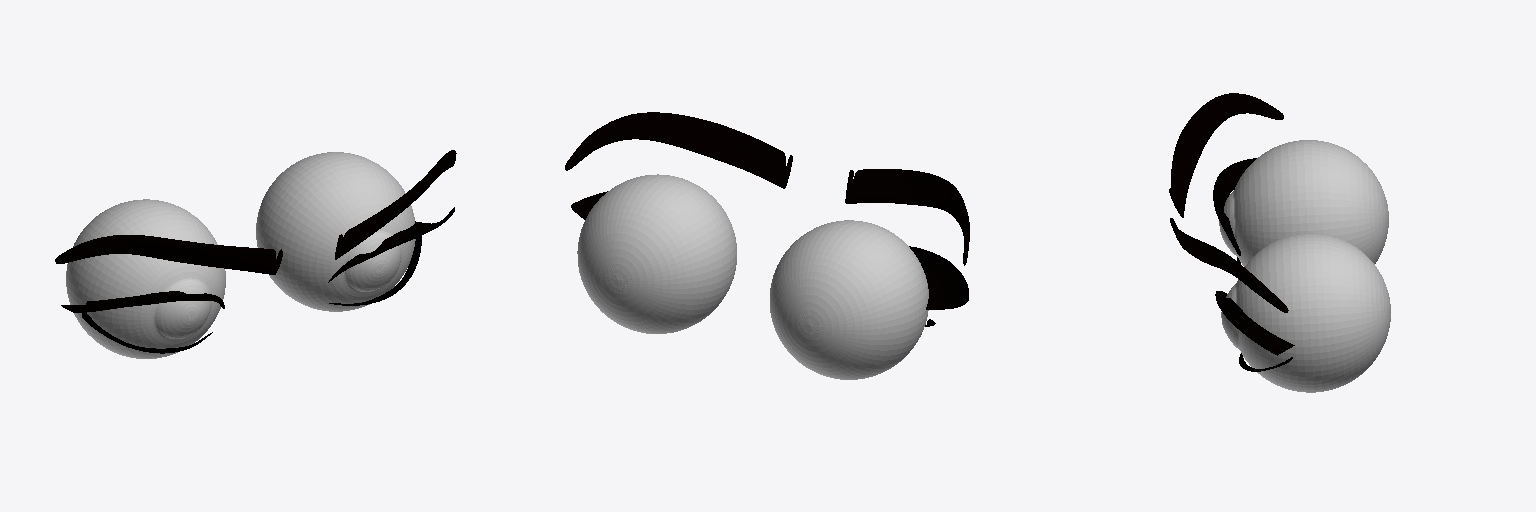
File: EyebrowsEyelashes.obj
The picture shows the model from 3 angles: view 1: azimuth 30°, elevation 25°; view 2: azimuth 150°, elevation 25°; view 3: azimuth 270°, elevation 25°; orthographic projection.
Parts seen in each view (by area): view 1: Sphere.001, Plane.006, Plane.007, Plane.008; view 2: Sphere.001, Plane.006, Plane.007; view 3: Sphere.001, Plane.006, Plane.007.
Boxes of the visible parts, x1=… form: Sphere.001: x1=66, y1=152, x2=415, y2=358; Plane.006: x1=55, y1=150, x2=456, y2=274; Plane.007: x1=61, y1=207, x2=454, y2=312; Plane.008: x1=82, y1=236, x2=421, y2=353; Sphere.001: x1=577, y1=174, x2=928, y2=379; Plane.006: x1=565, y1=112, x2=969, y2=265; Plane.007: x1=571, y1=191, x2=968, y2=309; Sphere.001: x1=1219, y1=140, x2=1390, y2=392; Plane.006: x1=1169, y1=93, x2=1288, y2=312; Plane.007: x1=1213, y1=158, x2=1294, y2=355.
Bounding box in the file's own units: 1.01 × 0.4006 × 0.4879.